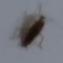cockroach: (20, 15, 46, 48)
